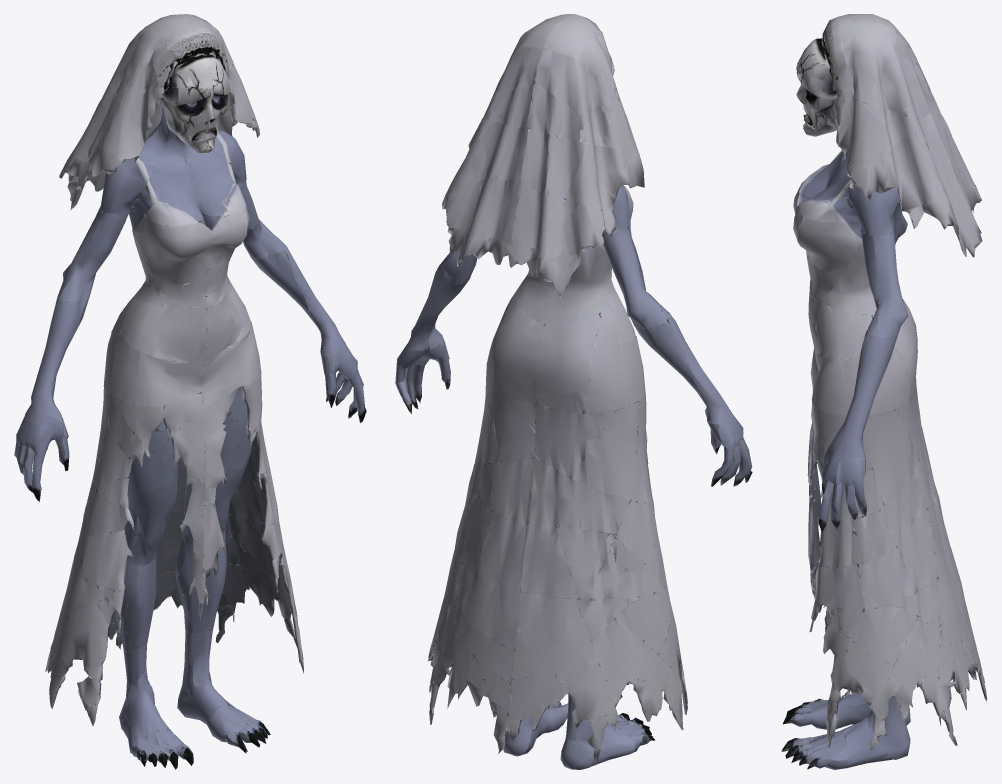
Rendered from 13_ghost_bride.glb.
3 views of the same model, side by side, from view 1: azimuth 30°, elevation 25°; view 2: azimuth 150°, elevation 25°; view 3: azimuth 270°, elevation 25° (orthographic).
Visible parts, largest first — view 1: mesh_node; view 2: mesh_node; view 3: mesh_node.
Part boxes in pixels (box(x1,y1,x2,y2)): mesh_node: box(14, 14, 366, 769); mesh_node: box(395, 14, 752, 769); mesh_node: box(781, 14, 987, 769).
Size of the model in its own units: 0.9443 by 1.9 by 0.4911.
1 material, 1 textured.
